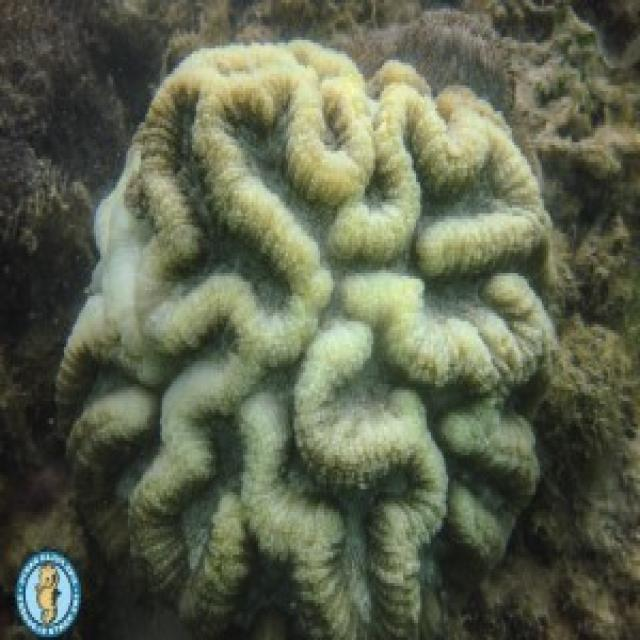Bleached: (55, 33, 561, 640)
Healthy: (551, 1, 640, 640), (1, 1, 152, 345)
